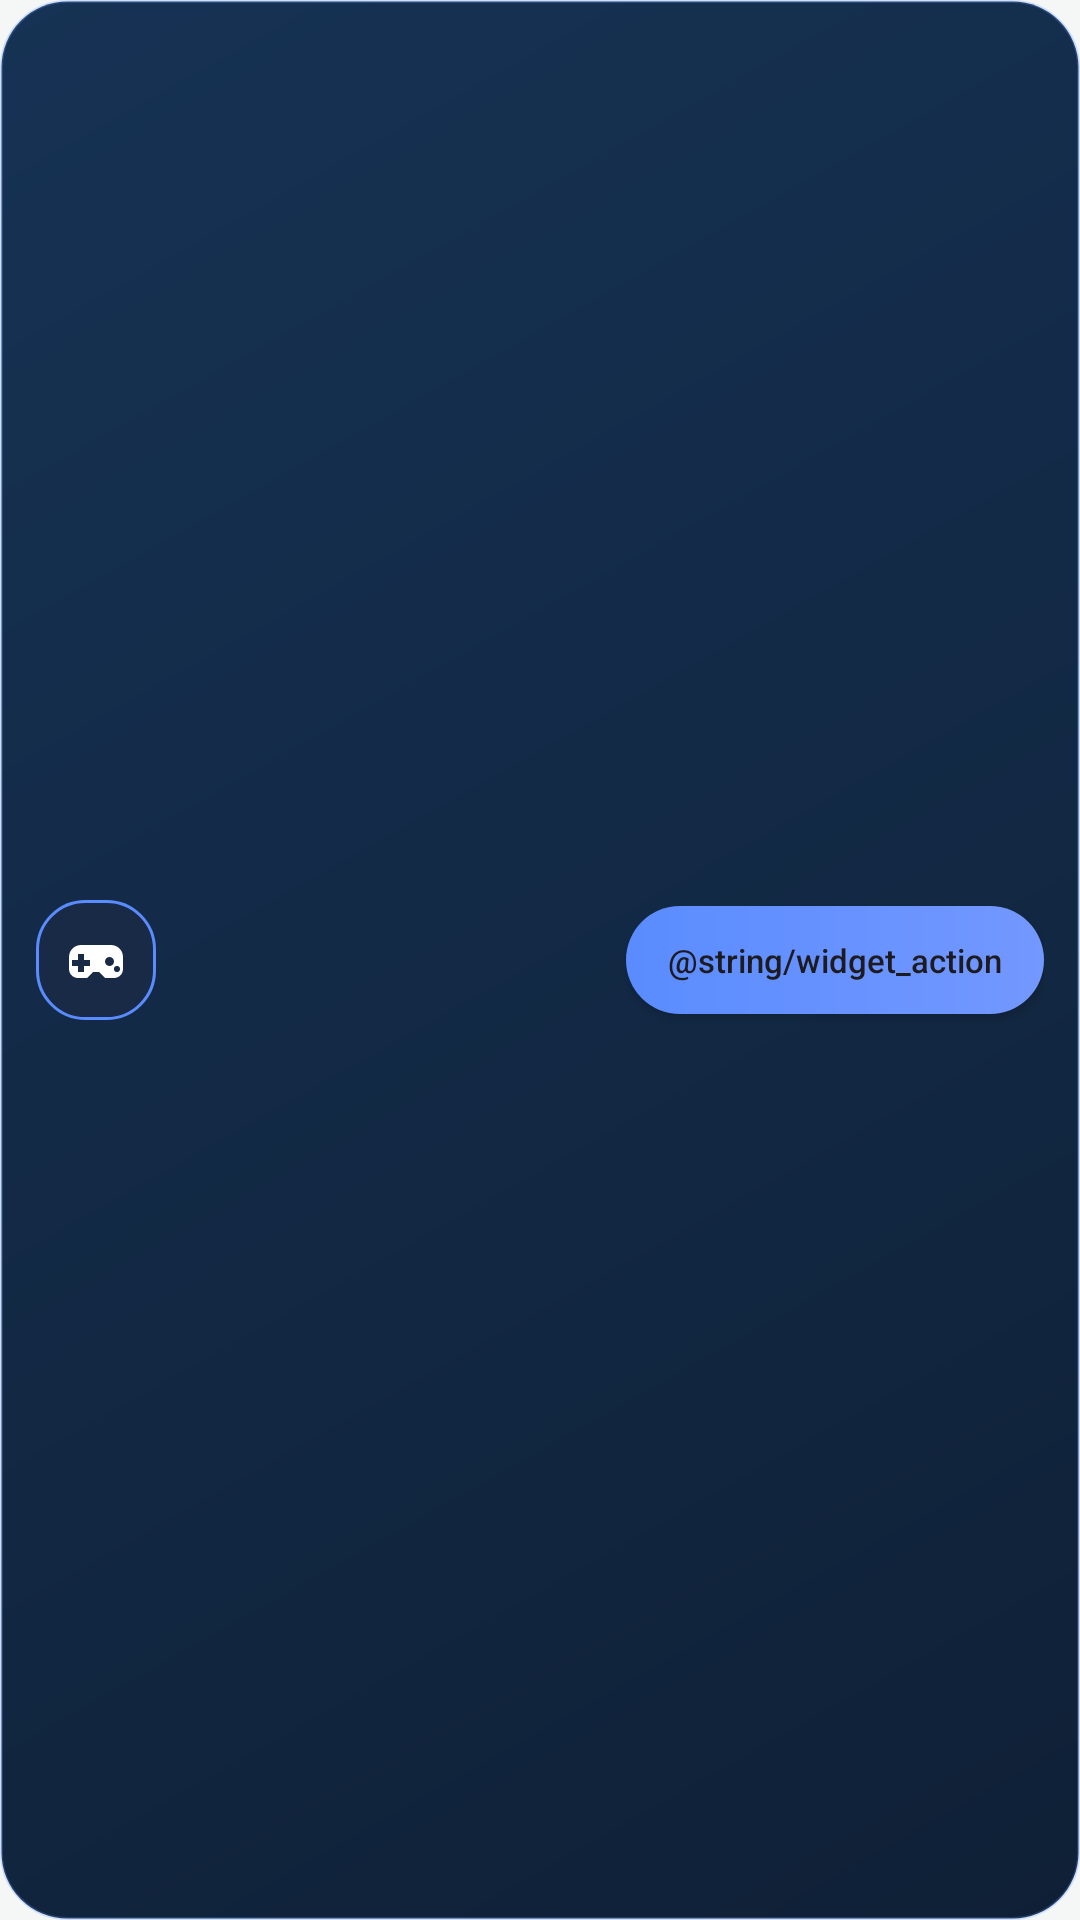

Icon click points for this 1080px x 1920px phone screenshot, format point (x, y):
games: point (96, 960)
